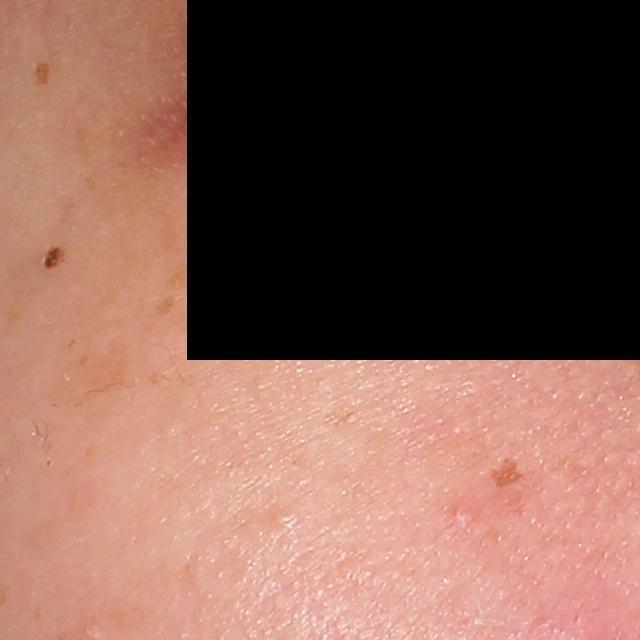comedo: (275, 508, 300, 531)
melasma: (486, 454, 527, 491), (34, 59, 56, 84), (155, 292, 177, 317)
nevus: (39, 241, 69, 272)
